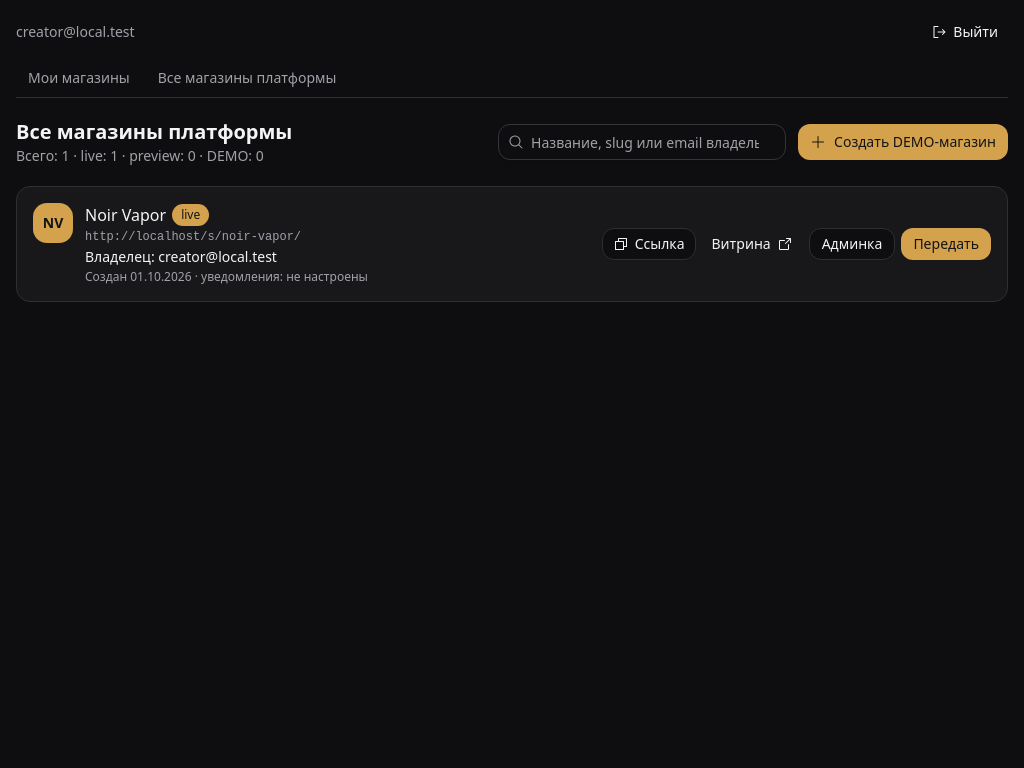
Scenario: Все магазины платформы › hand-over: find an existing account, review who loses access, transfer, show the verified result
This screenshot has width=1024, height=768.
Click the button with test id "platform-transfer": (946, 244) 901,228 -> 991,260
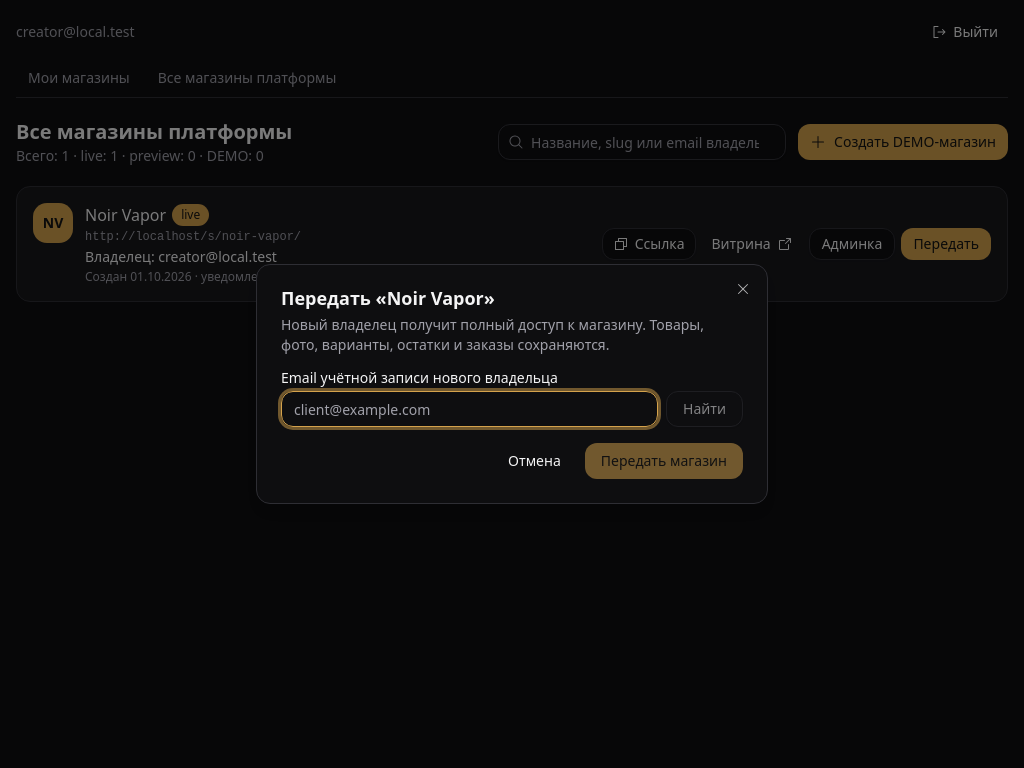
Now the button with test id "transfer-confirm" is disabled, box 585,443 -> 743,479
In the field labelled "Email учётной записи нового владельца": (470, 409) 281,391 -> 658,427, type "new@local.test"
Click the button "Найти": (705, 409) 666,391 -> 743,427
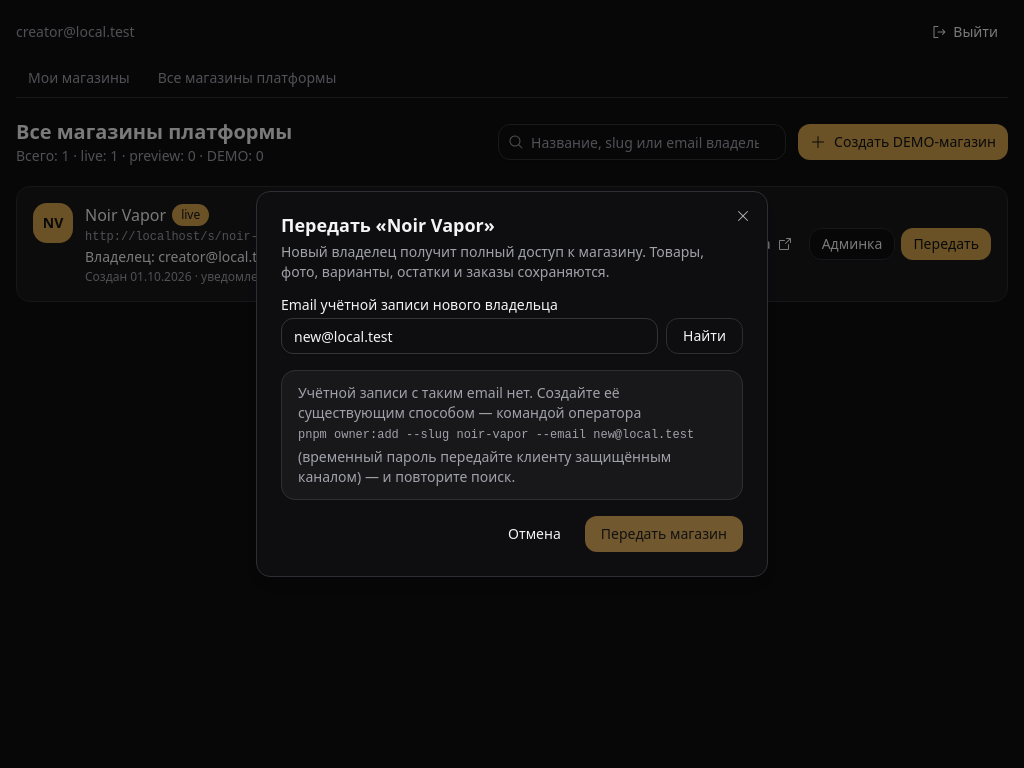
Now the button with test id "transfer-confirm" is disabled, box 585,516 -> 743,552
Now the message with test id "transfer-user-missing" shows "pnpm owner:add --slug noir-vapor --email new@local.test", box 281,370 -> 743,500
Clear the field labelled "Email учётной записи нового владельца": (470, 336) 281,318 -> 658,354
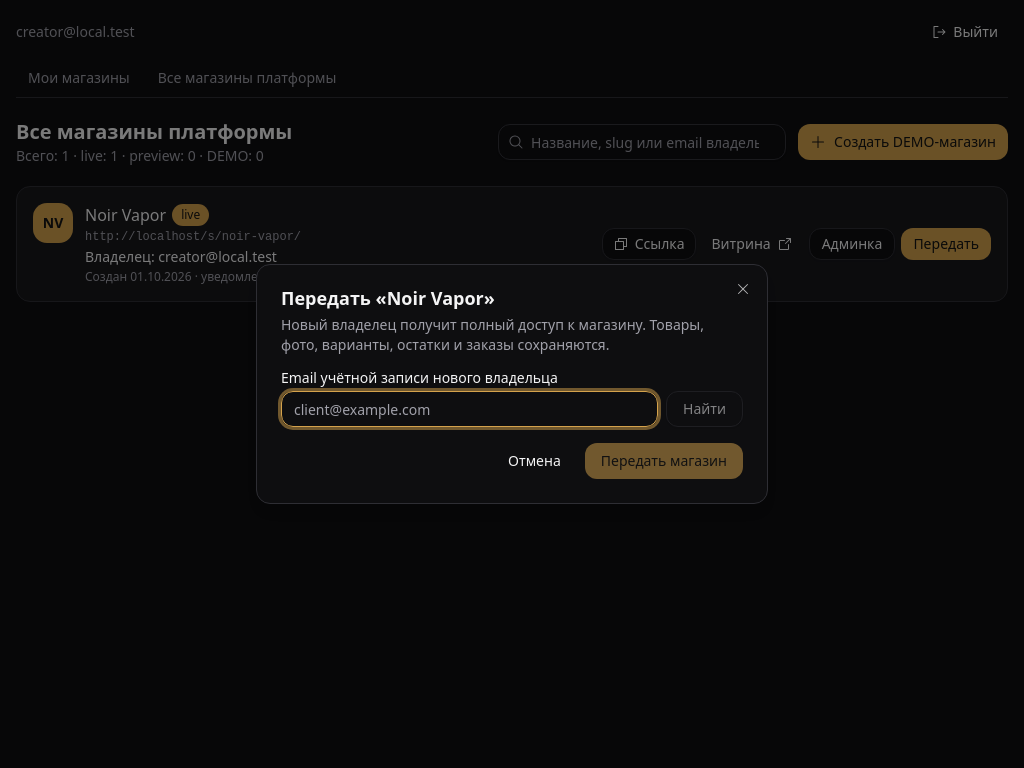
In the field labelled "Email учётной записи нового владельца": (470, 409) 281,391 -> 658,427, type "client@local.test"
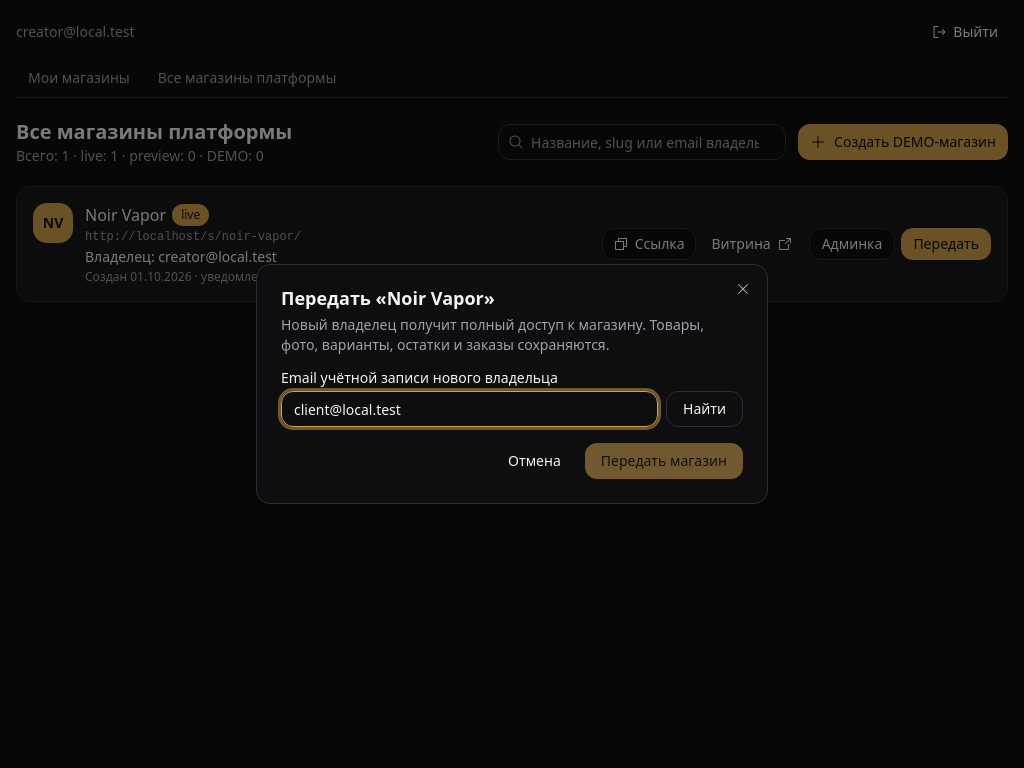
Click the button "Найти": (705, 409) 666,391 -> 743,427
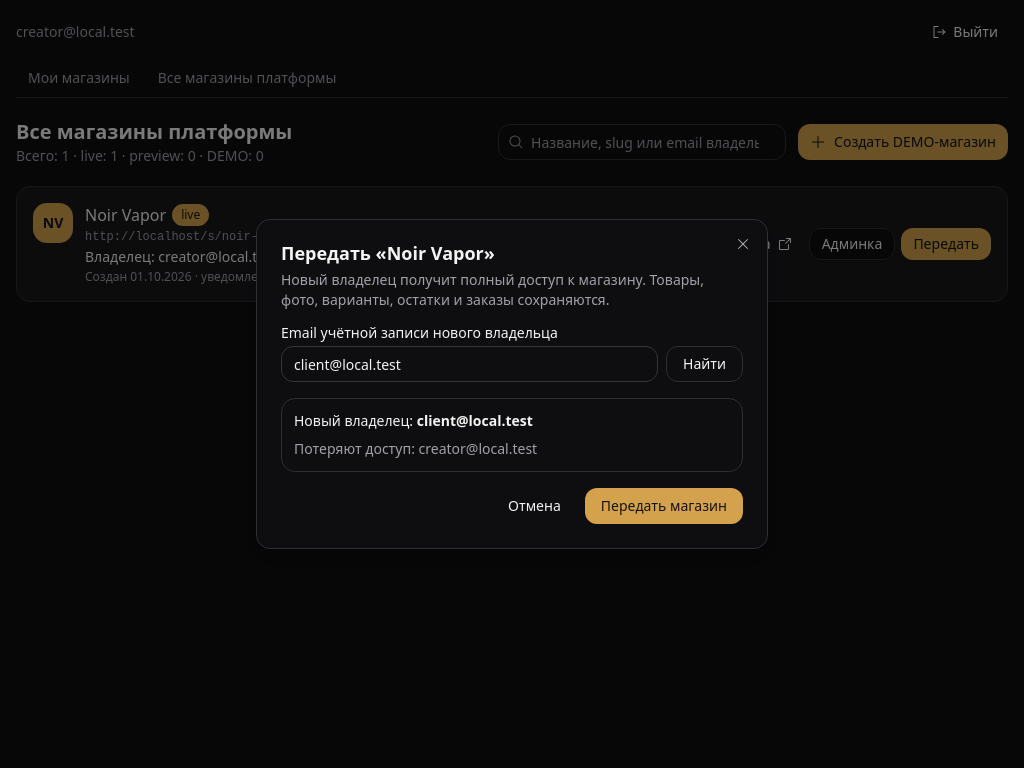
Now the element with test id "transfer-review" shows "Потеряют доступ: creator@local.test", box 294,439 -> 537,458
Click the button with test id "transfer-confirm": (664, 506) 585,488 -> 743,524
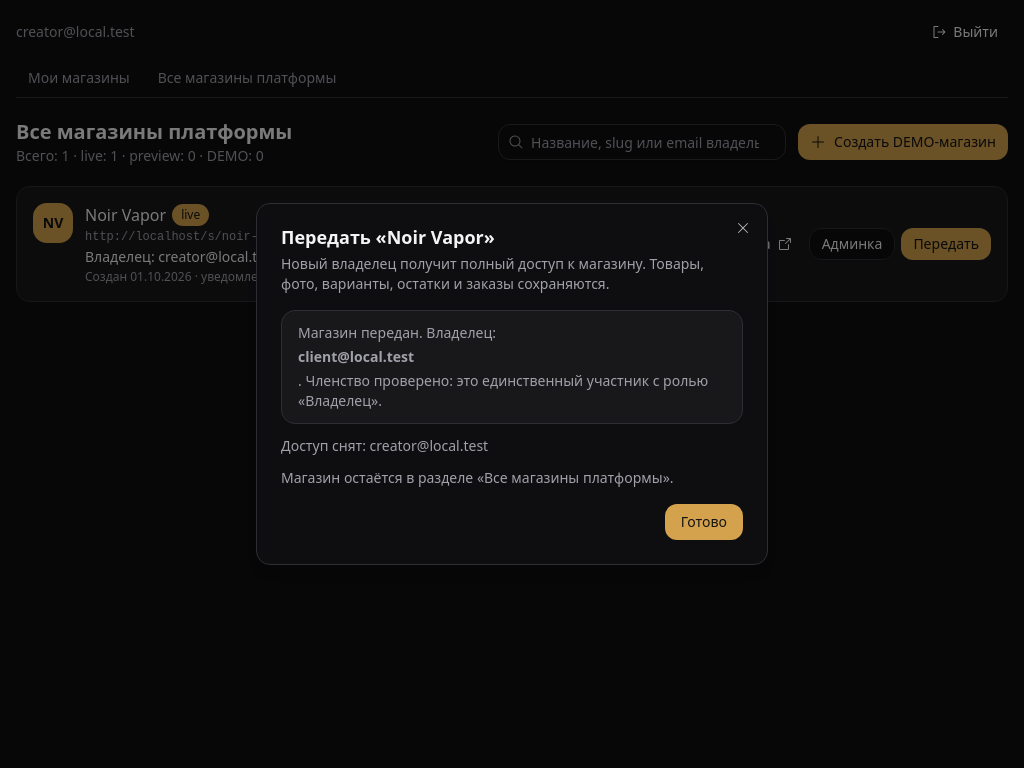
Now the element with test id "transfer-result" shows "Магазин передан. Владелец: client@local.test", box 281,310 -> 743,488
Now the element with test id "transfer-result" shows "Доступ снят: creator@local.test", box 281,310 -> 743,488
Now the element with test id "transfer-result" shows "остаётся в разделе «Все магазины платформы»", box 281,468 -> 674,487
